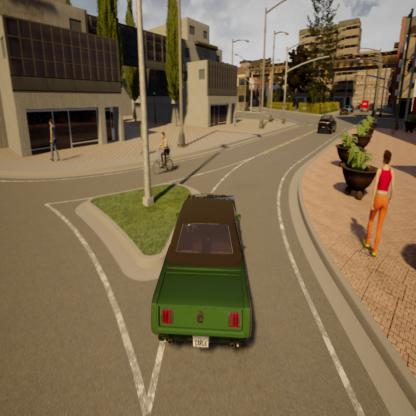Cars: (142, 182, 262, 363), (316, 112, 339, 138), (338, 104, 350, 117)
Pedestrian: (358, 139, 400, 268), (43, 117, 62, 166)
